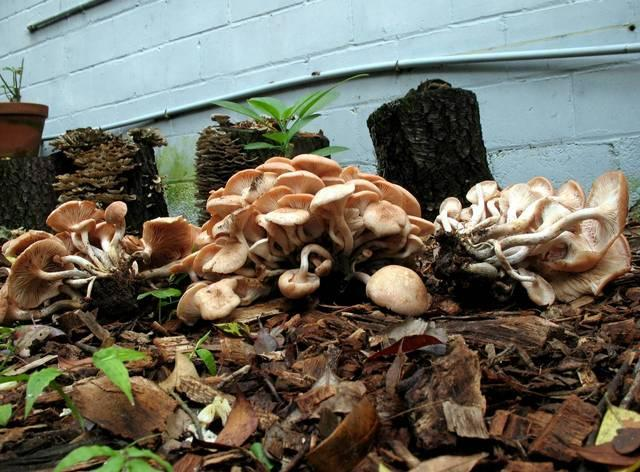edible_mushroom: (149, 151, 442, 332), (434, 169, 631, 306), (0, 204, 206, 311)
